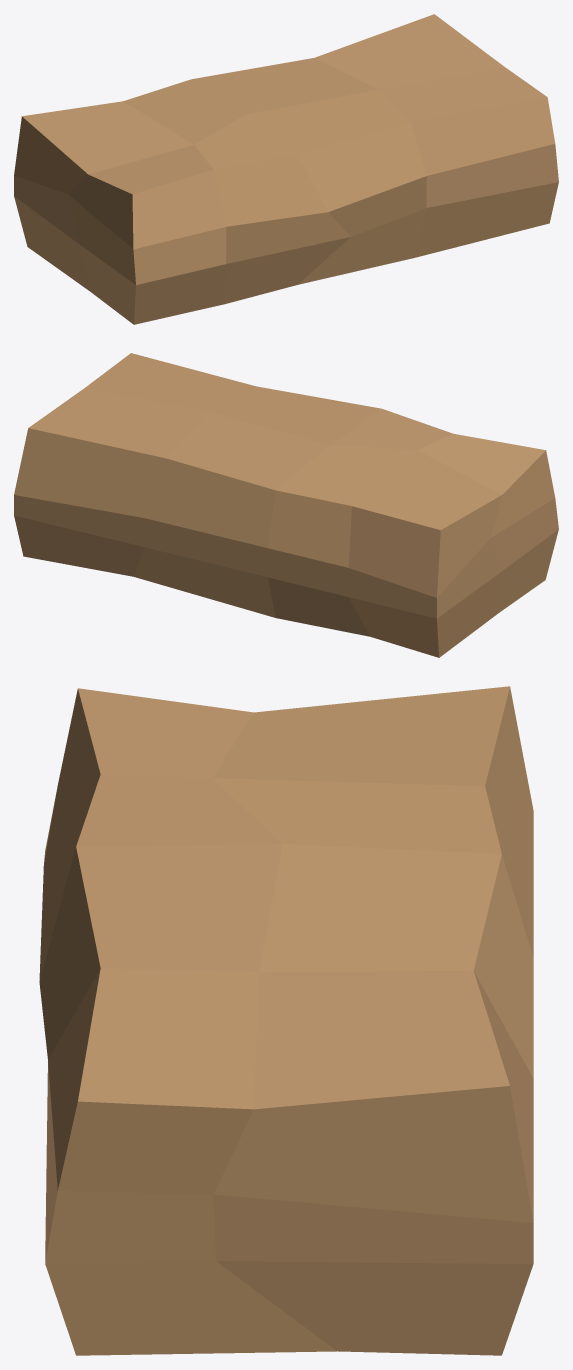
The model's file is SandbagV1.glb.
3 renders of one model, top to bottom at view 1: azimuth 30°, elevation 25°; view 2: azimuth 150°, elevation 25°; view 3: azimuth 270°, elevation 25°, orthographic. The views are drawn at different scales.
Parts seen in each view (by area): view 1: SandbagV1; view 2: SandbagV1; view 3: SandbagV1.
Part boxes in pixels (bbox=[...]): SandbagV1: bbox=[14, 14, 558, 324]; SandbagV1: bbox=[14, 353, 558, 657]; SandbagV1: bbox=[39, 686, 533, 1355].
Size of the model in its own units: 1 by 0.3 by 0.5058.
1 material, 1 textured.
